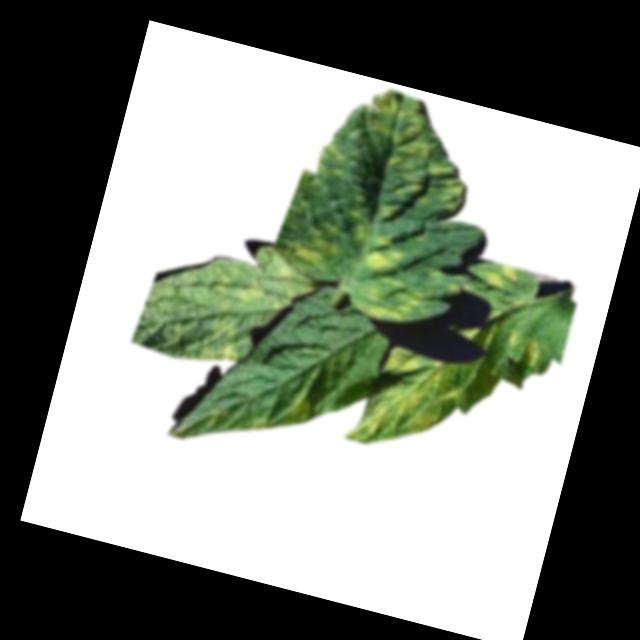Leaf_Mold: (344, 87, 486, 237), (345, 340, 470, 466), (199, 240, 320, 323), (351, 272, 429, 330), (186, 312, 245, 369), (283, 224, 344, 278), (360, 231, 407, 276), (281, 381, 319, 422), (480, 258, 520, 294), (518, 332, 543, 367), (243, 413, 270, 434)
